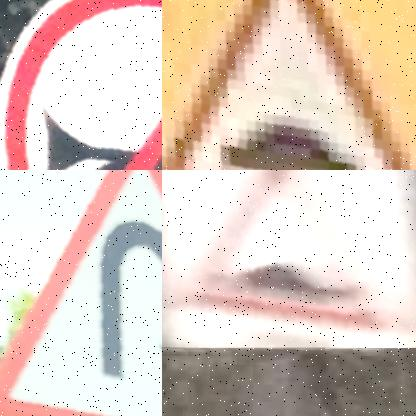No Horns: (0, 0, 162, 170)
Speed Breaker Ahead: (162, 170, 416, 346), (162, 0, 416, 170)
U-Turn: (0, 170, 162, 416)
